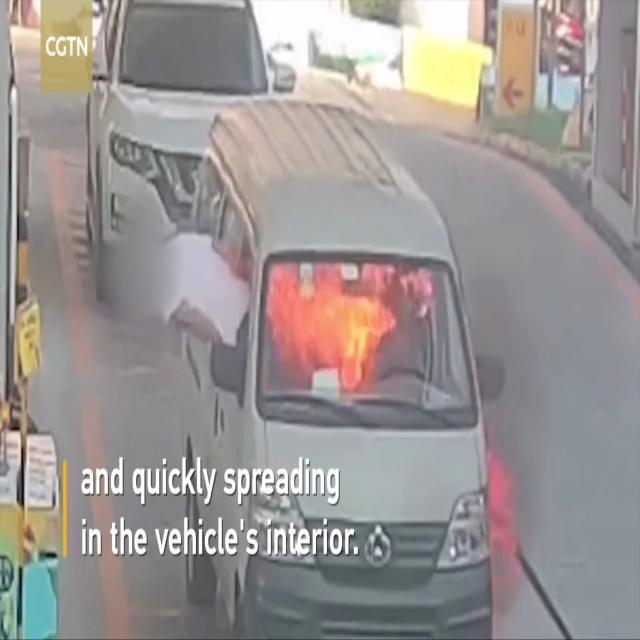fire: (268, 264, 422, 396), (486, 432, 523, 598)
